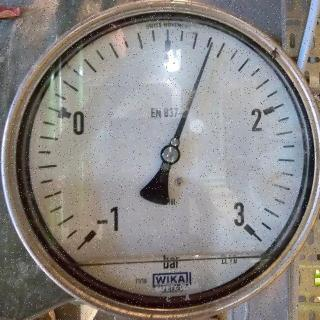gauge: (0, 0, 320, 320), (71, 218, 119, 258), (230, 210, 262, 242), (159, 144, 181, 164), (205, 38, 218, 50)
